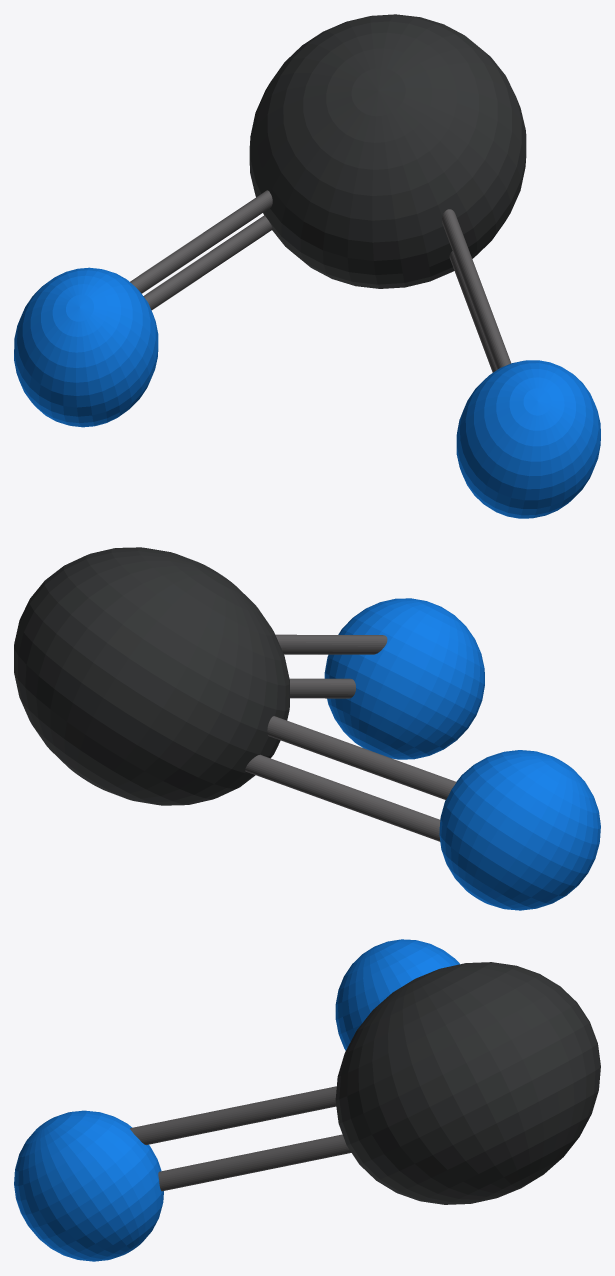
The picture shows the model from 3 angles, top to bottom: view 1: azimuth 30°, elevation 25°; view 2: azimuth 150°, elevation 25°; view 3: azimuth 270°, elevation 25°; orthographic projection. The views are drawn at different scales.
Visible parts, largest first — view 1: Sphere.001; view 2: Sphere.001; view 3: Sphere.001.
Boxes of the visible parts, x1,y1,x2,y2 form: Sphere.001: (14,14,600,518); Sphere.001: (14,547,600,910); Sphere.001: (14,939,600,1261).
Bounding box in the file's own units: 1.2 × 0.7078 × 1.21.
